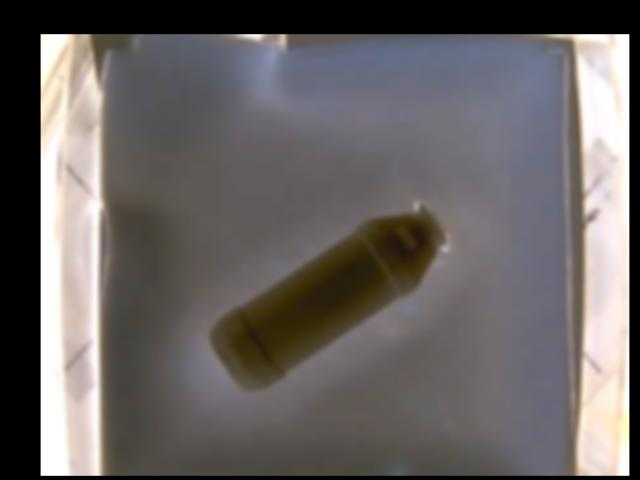Bottle: (210, 198, 451, 392)
